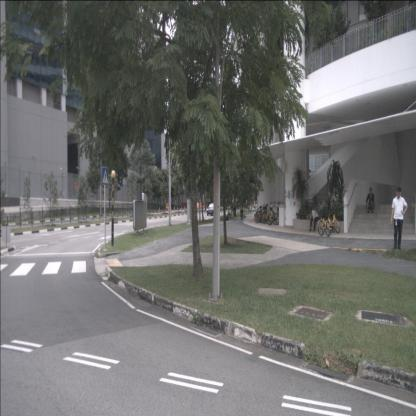cone: (158, 207, 161, 212), (173, 207, 176, 211)
